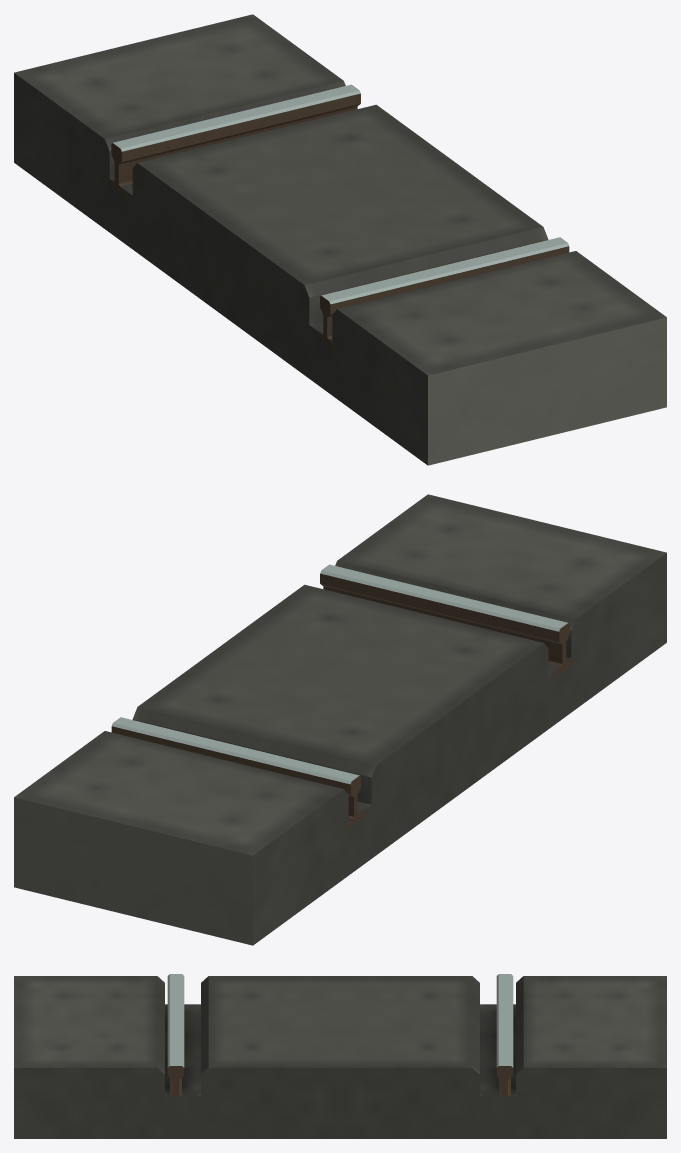
File: atsf_crossing_track_middle_tracks_concrete.obj
3 renders of one model, top to bottom at view 1: azimuth 30°, elevation 25°; view 2: azimuth 150°, elevation 25°; view 3: azimuth 270°, elevation 25°, orthographic. The views are drawn at different scales.
Visible parts, largest first — view 1: RAIL_BASE.001_Cube.003, RAIL_RIGHT_Cube.010, RAIL_LEFT_Cube.001; view 2: RAIL_BASE.001_Cube.003, RAIL_LEFT_Cube.001, RAIL_RIGHT_Cube.010; view 3: RAIL_BASE.001_Cube.003, RAIL_RIGHT_Cube.010, RAIL_LEFT_Cube.001.
Boxes of the visible parts, bbox=[...] form: RAIL_BASE.001_Cube.003: bbox=[14, 14, 666, 465]; RAIL_RIGHT_Cube.010: bbox=[106, 84, 360, 197]; RAIL_LEFT_Cube.001: bbox=[314, 237, 569, 350]; RAIL_BASE.001_Cube.003: bbox=[14, 494, 666, 945]; RAIL_LEFT_Cube.001: bbox=[320, 564, 574, 677]; RAIL_RIGHT_Cube.010: bbox=[111, 717, 366, 830]; RAIL_BASE.001_Cube.003: bbox=[14, 976, 666, 1138]; RAIL_RIGHT_Cube.010: bbox=[496, 974, 513, 1096]; RAIL_LEFT_Cube.001: bbox=[167, 974, 184, 1096].
Size of the model in its own units: 1 by 0.3683 by 3.
1 material, 1 textured.
